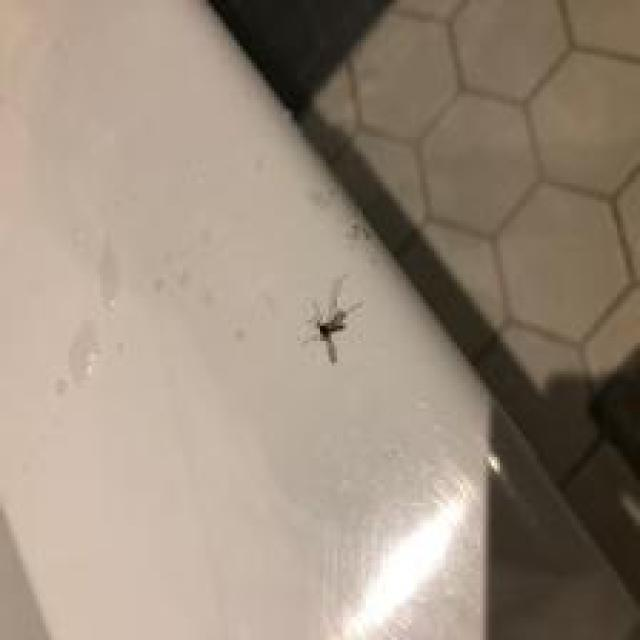Culex: (299, 274, 364, 366)
